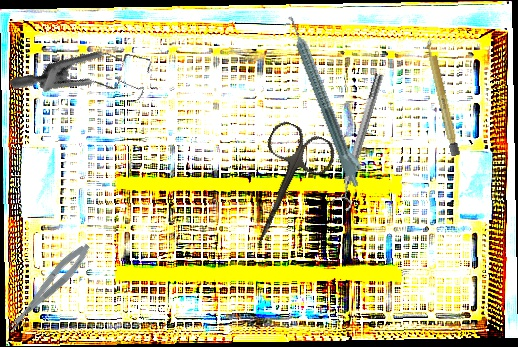Fixation Ring: (328, 71, 392, 212)
Handpiece: (284, 10, 370, 190)
Iris Scissors: (225, 117, 341, 260)
Micro Scissor: (0, 239, 96, 336)
Scalpel Handle: (424, 37, 461, 158)
Speculum: (9, 8, 165, 155)
